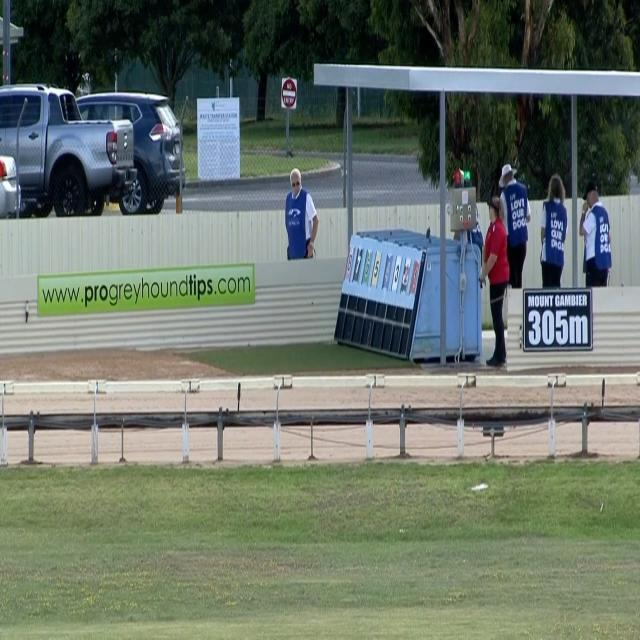rail: (0, 406, 640, 431)
